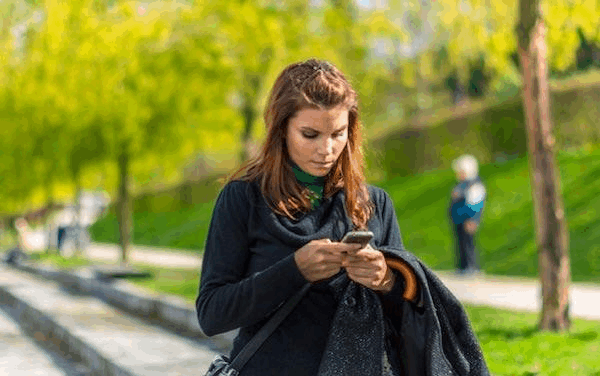reading: (294, 228, 391, 290)
